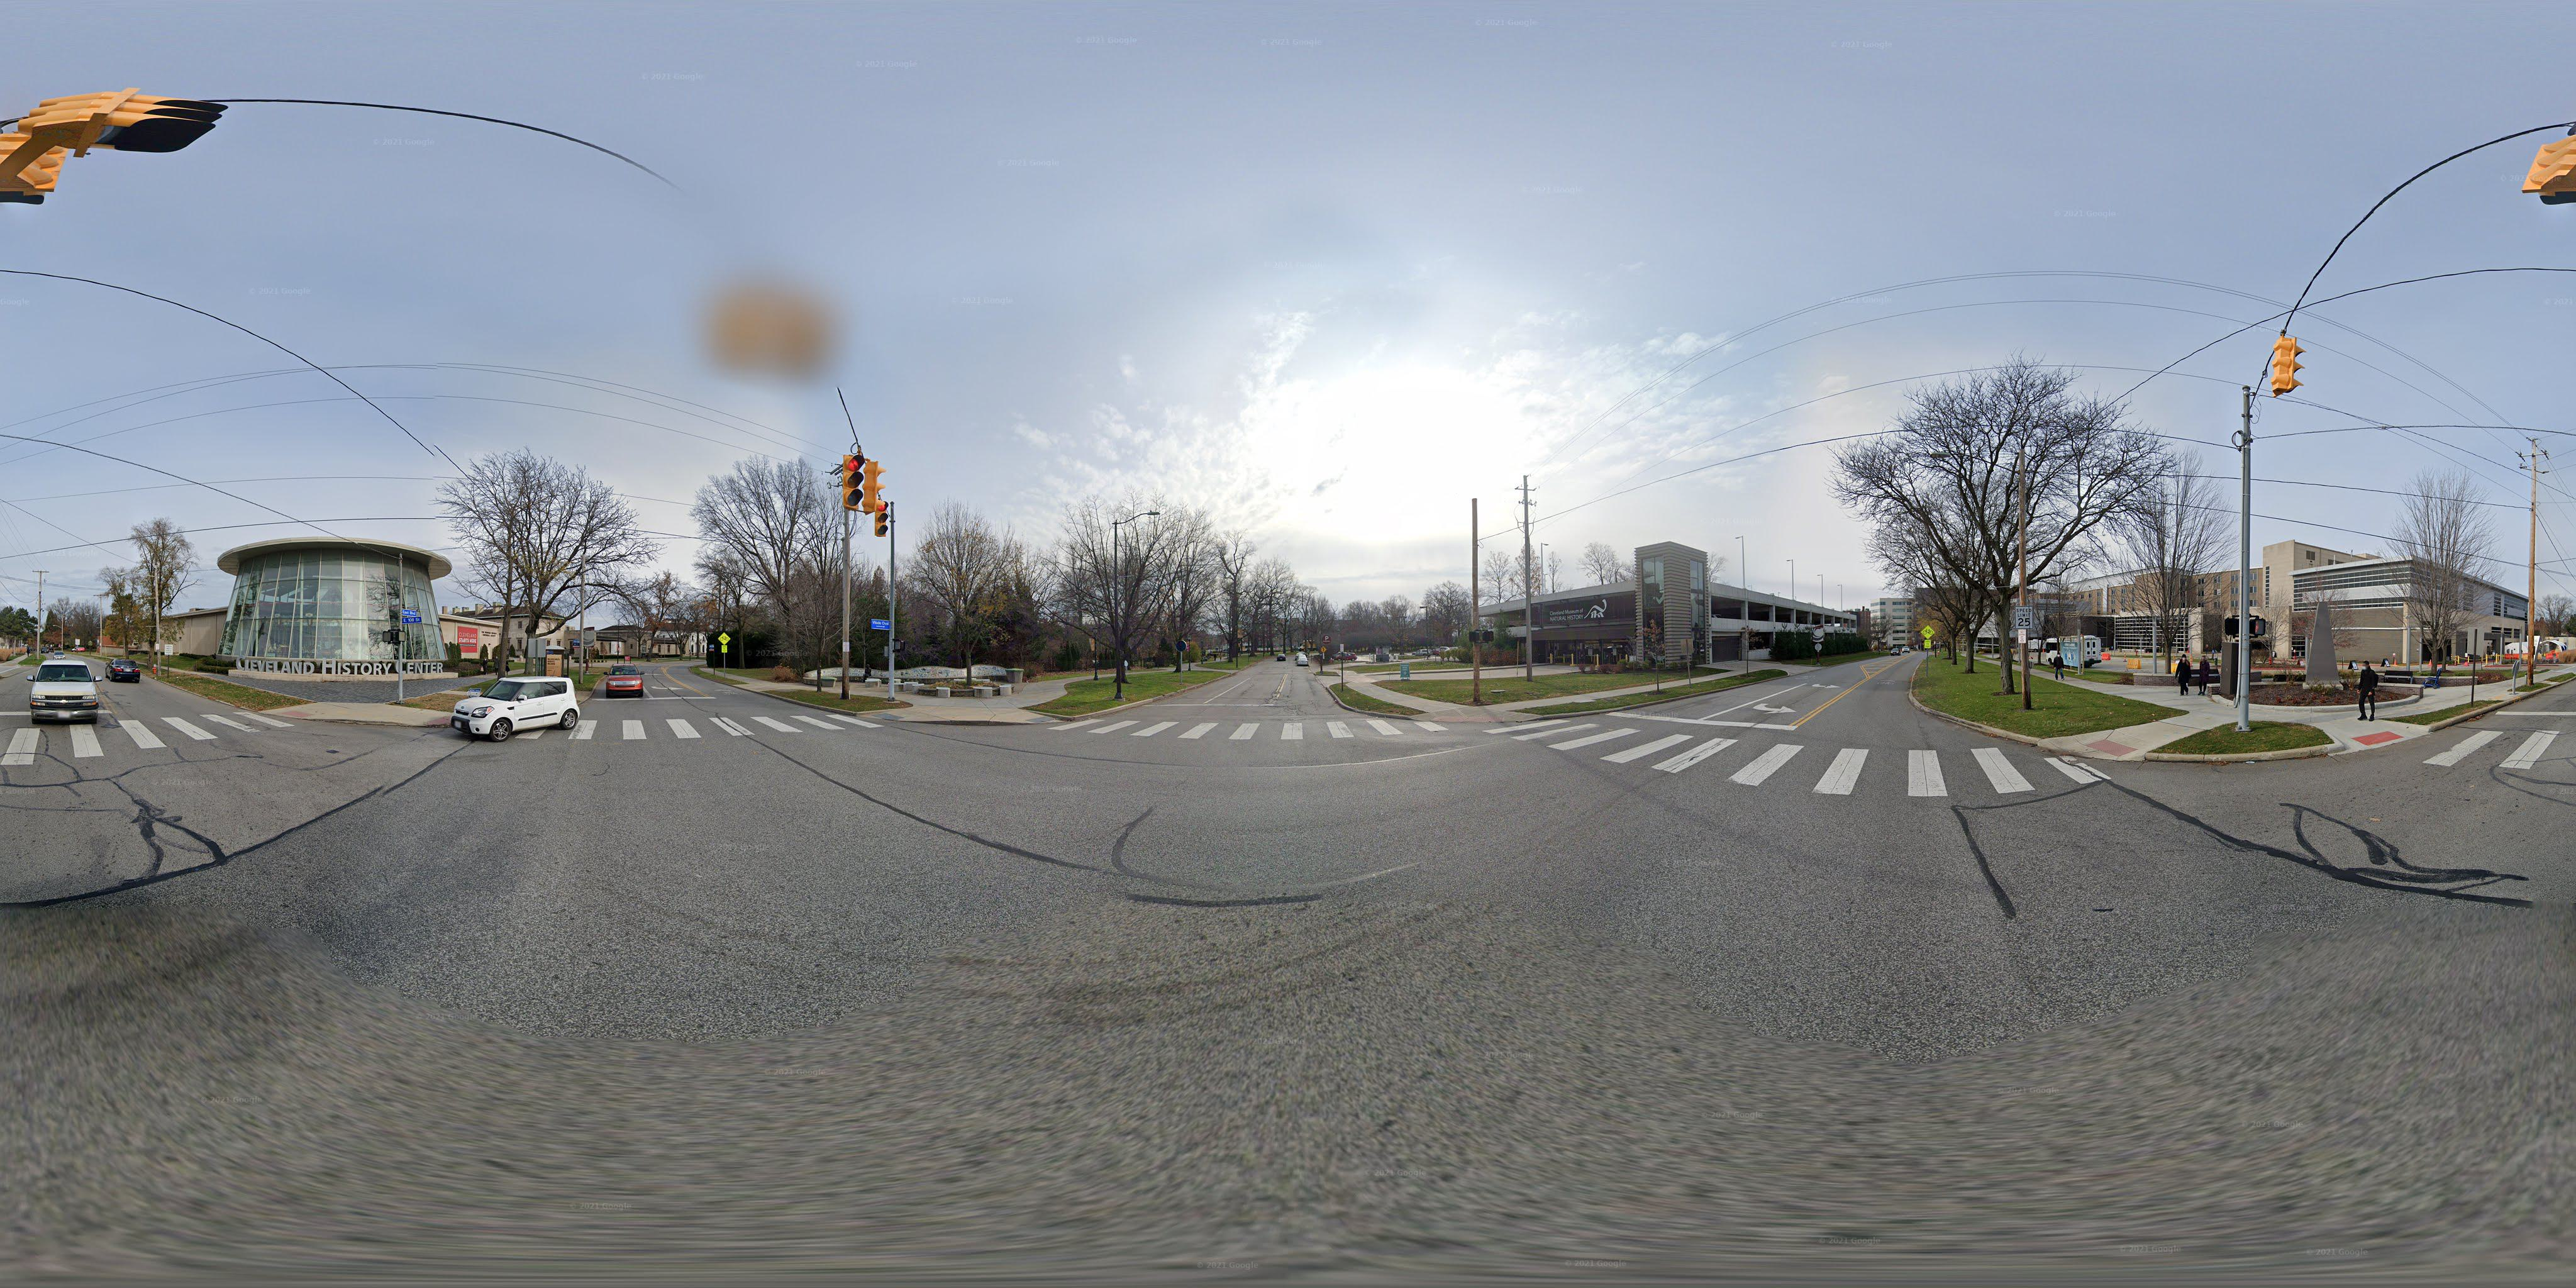Curb Ramp: (2042, 713, 2155, 774), (2313, 711, 2426, 762), (1416, 695, 1518, 743), (848, 700, 920, 733), (1002, 711, 1079, 739), (263, 698, 329, 728)
